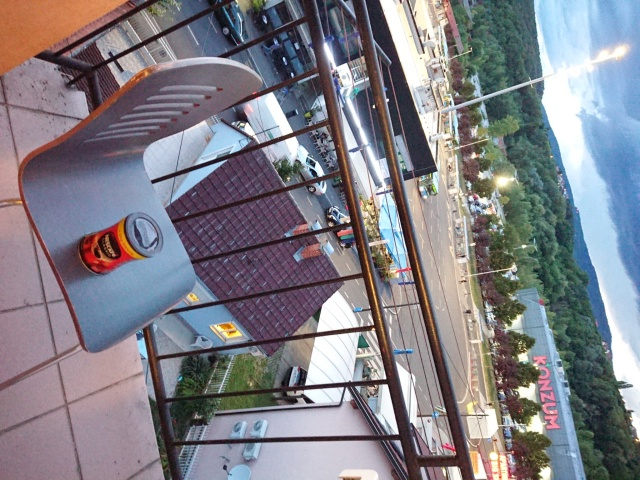Nescafe Classic 225g: (75, 210, 166, 278)
